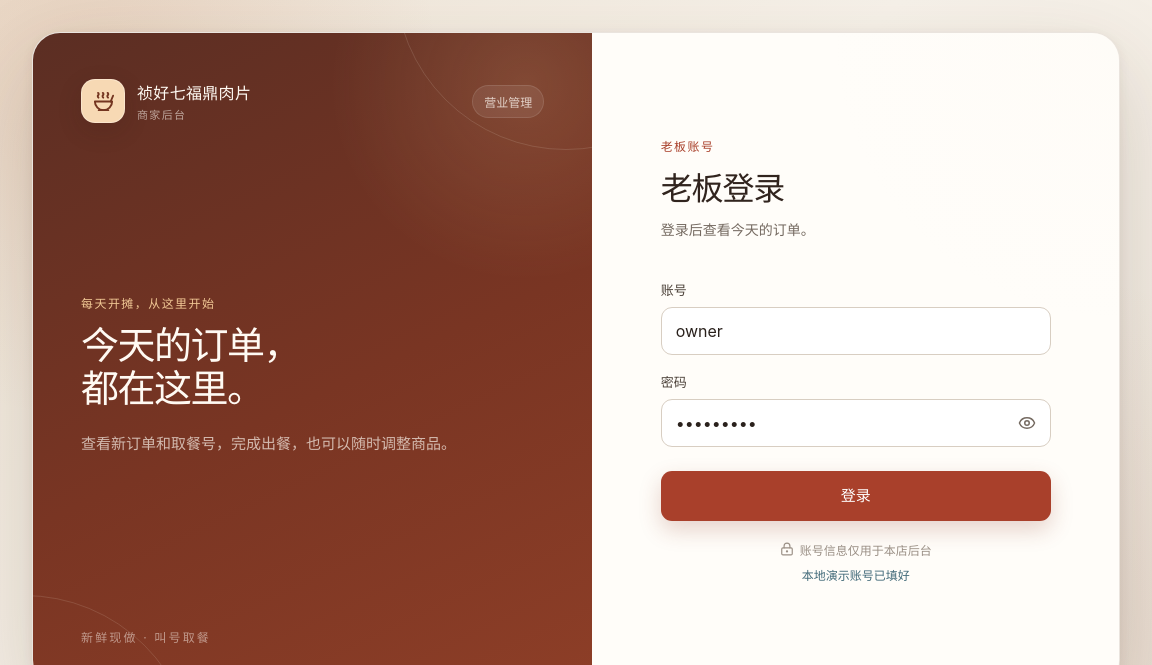
Test: merchant V2 app › keeps loaded waiting-order pages when the five-second monitor refreshes
The width and height of the screenshot is (1152, 665).
Click the button "登录" at (856,496), box [661,470,1051,520]
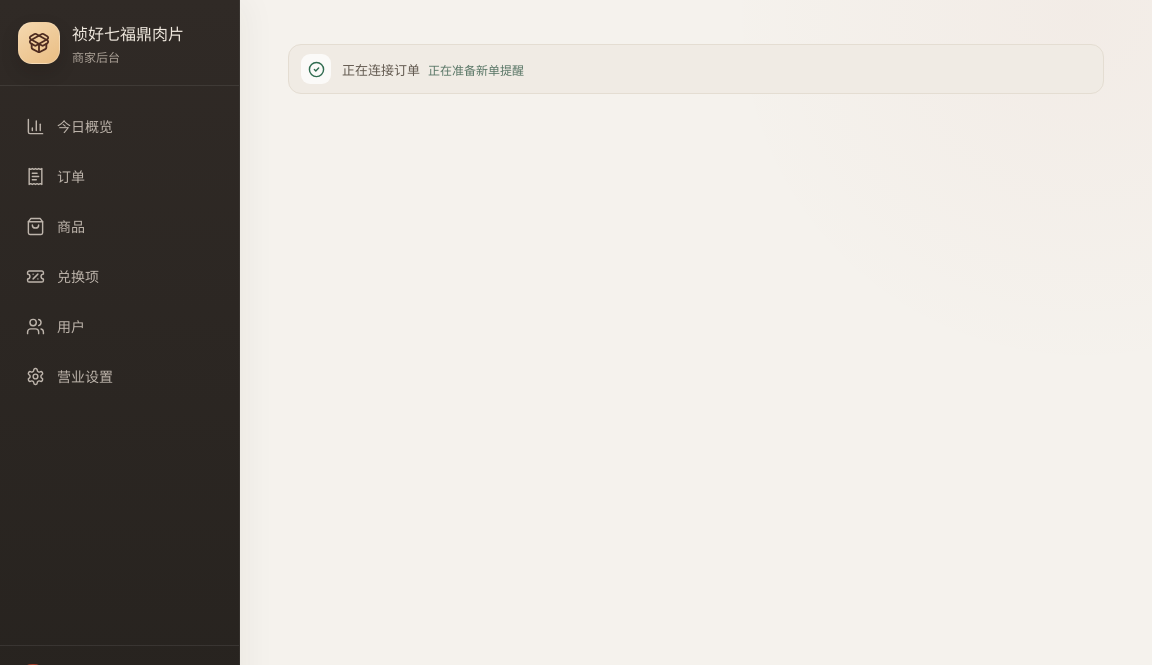
Click the link "订单" at (56,176), box [26,166,85,186]
(page scrolled)
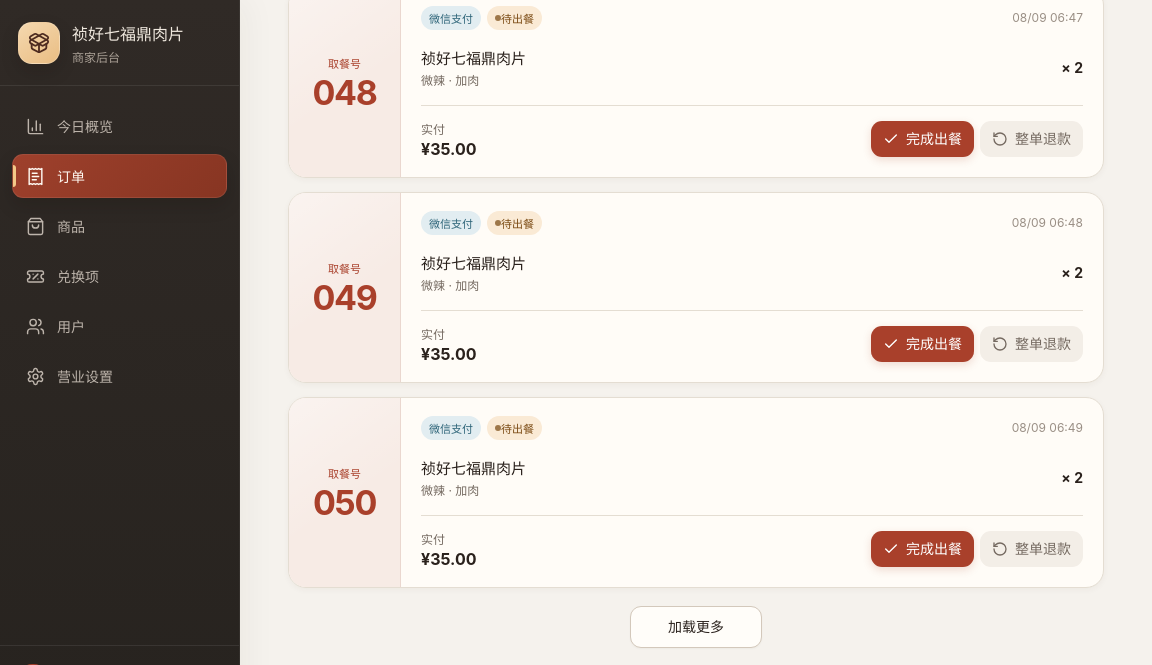
Click the button "加载更多" at (696,626), box [630,606,762,648]
(page scrolled)
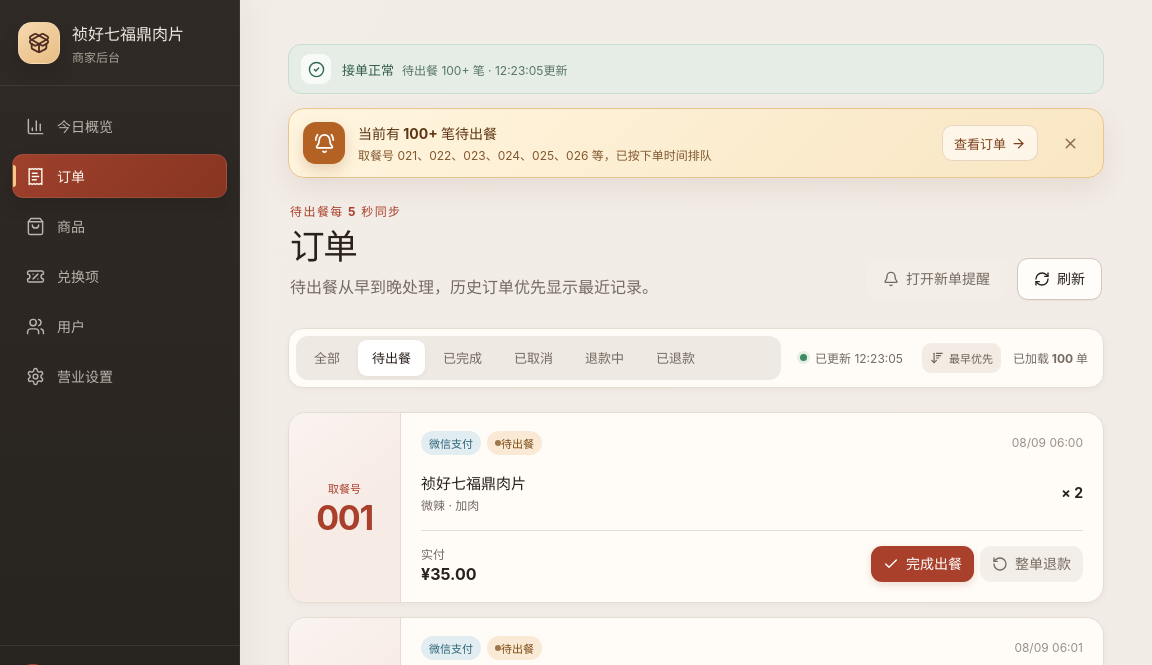
Expected: the text "已加载 100 单" is shown, [1013,349,1096,366]
